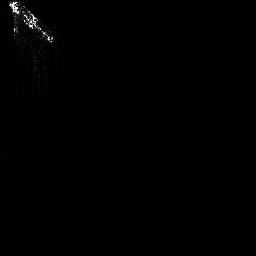ship: (8, 1, 56, 43)
